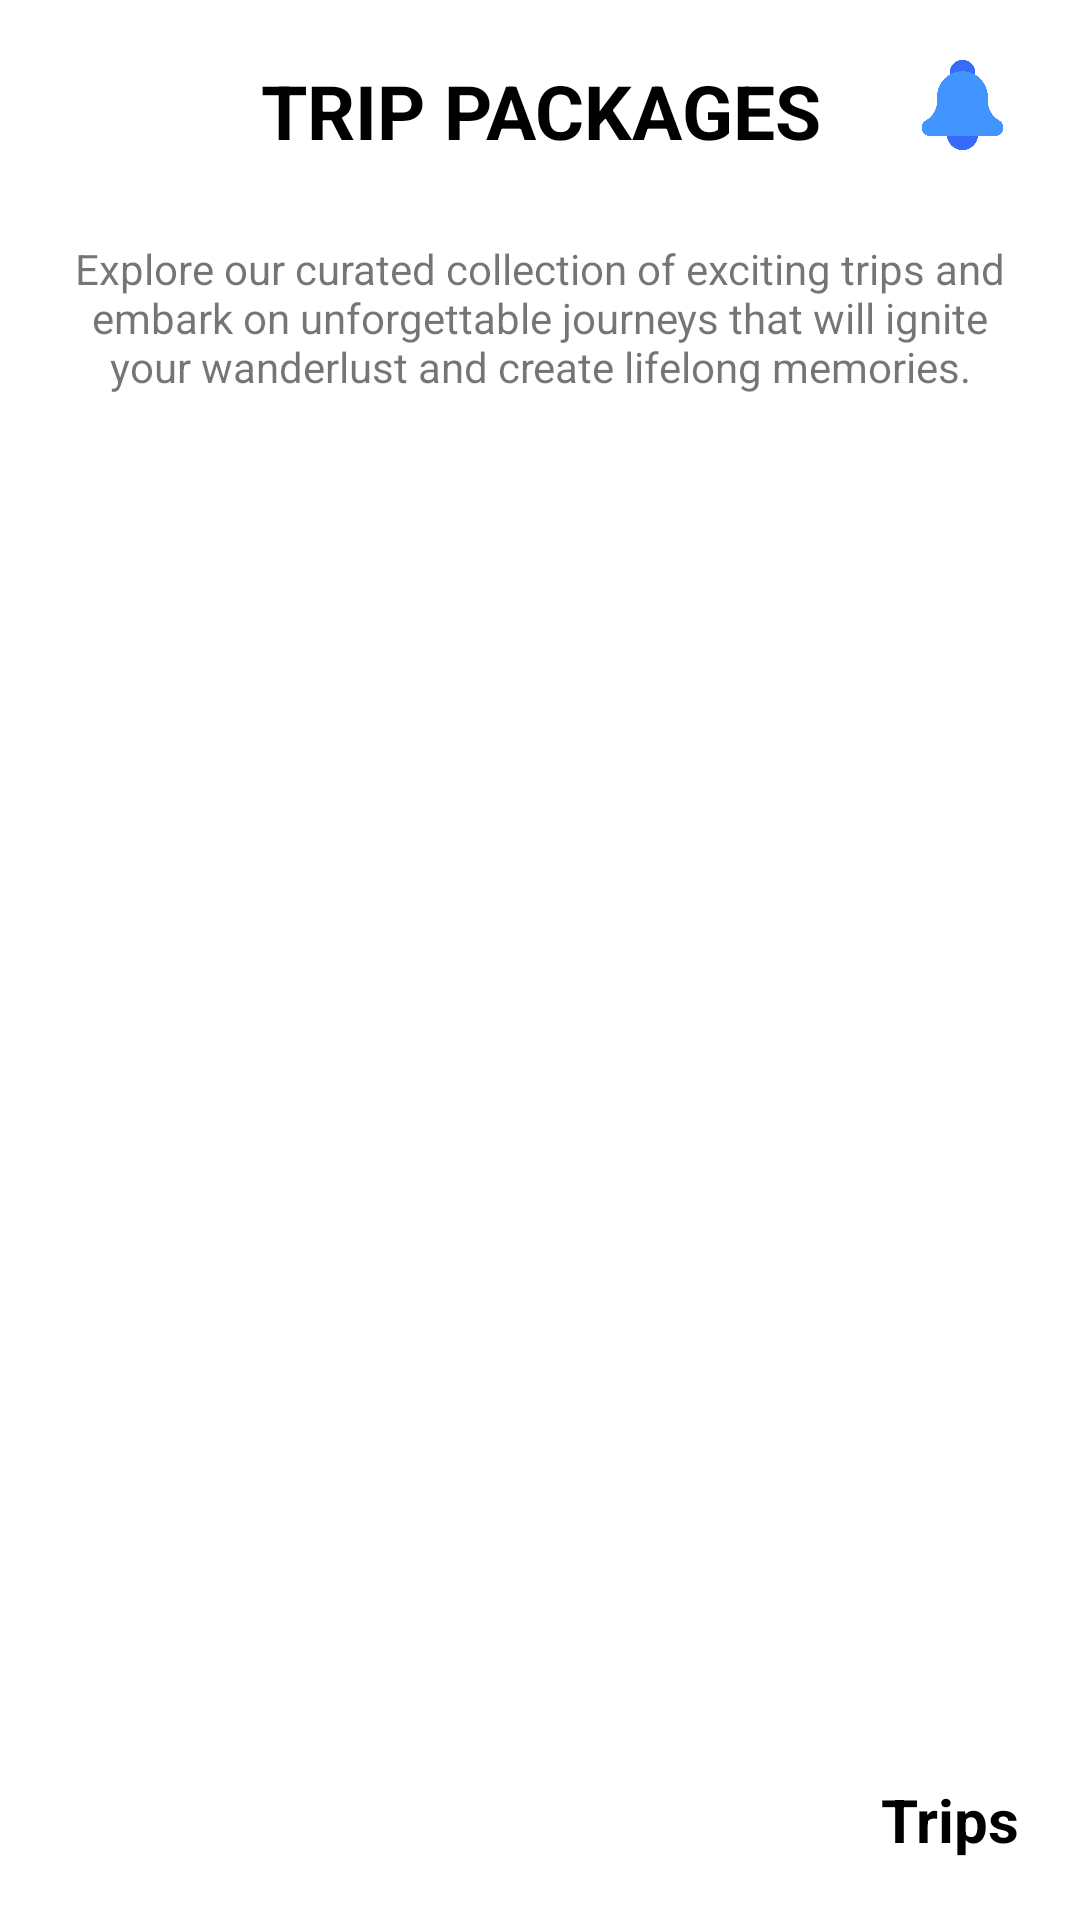

Named icons in this screenshot (1080px x 1920px) and their bounding boxes, (x1, y1, x2, y2):
notification: (922, 60, 1003, 150)
